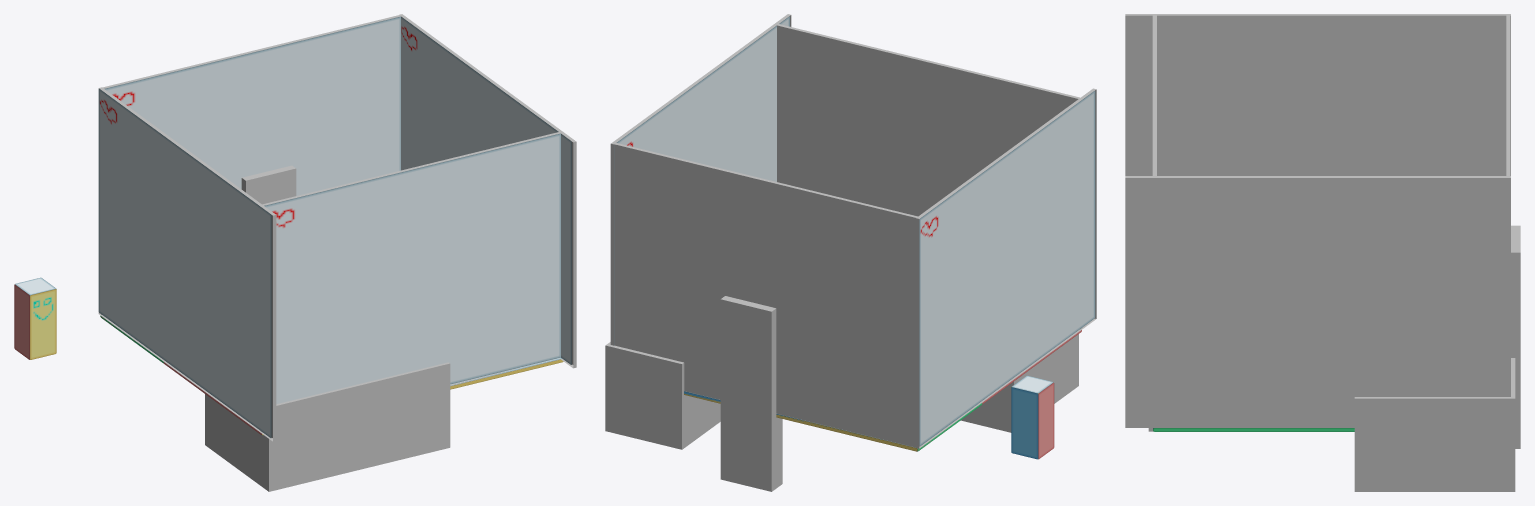
The model's file is house.obj.
3 views of the same model, side by side, from view 1: azimuth 30°, elevation 25°; view 2: azimuth 150°, elevation 25°; view 3: azimuth 270°, elevation 25° (orthographic). The views are drawn at different scales.
Parts seen in each view (by area): view 1: cuboid, cama, tony; view 2: cuboid, cama, tony; view 3: cuboid, cama.
Part boxes in pixels (<box>): cuboid: <box>98,14,576,441</box>; cama: <box>205,165,450,491</box>; tony: <box>14,277,56,359</box>; cuboid: <box>610,14,1096,451</box>; cama: <box>605,296,1078,491</box>; tony: <box>1011,375,1054,459</box>; cuboid: <box>1125,14,1510,431</box>; cama: <box>1148,225,1520,491</box>.
Bounding box in the file's own units: 15.19 × 10.67 × 11.53.
Materials: 4 (3 with a texture image).
